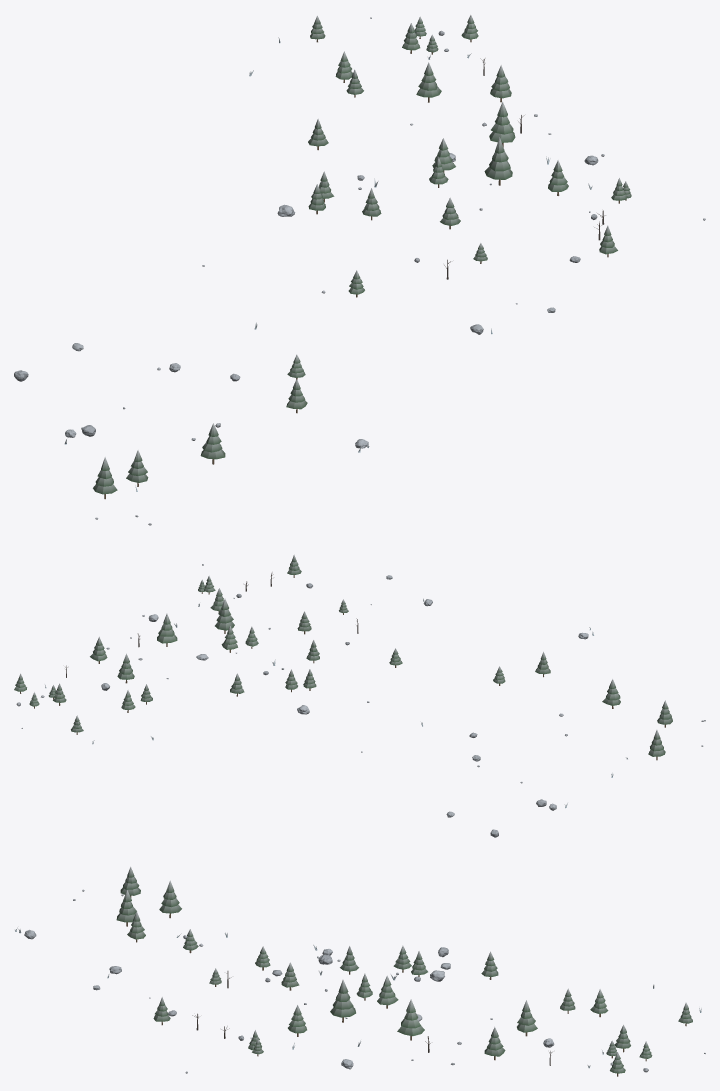
The model's file is frost_land_scatter_c12_11.glb.
The picture shows the model from 3 angles, top to bottom: view 1: azimuth 30°, elevation 25°; view 2: azimuth 150°, elevation 25°; view 3: azimuth 270°, elevation 25°; orthographic projection. The views are drawn at different scales.
Parts seen in each view (by area): view 1: frost_land_scatter_c12_11; view 2: frost_land_scatter_c12_11; view 3: frost_land_scatter_c12_11.
Part boxes in pixels (box(x1,y1,x2,y2)): frost_land_scatter_c12_11: box(14, 15, 705, 525); frost_land_scatter_c12_11: box(14, 554, 705, 837); frost_land_scatter_c12_11: box(14, 866, 705, 1076).
Bounding box in the file's own units: 241 × 65.78 × 245.
